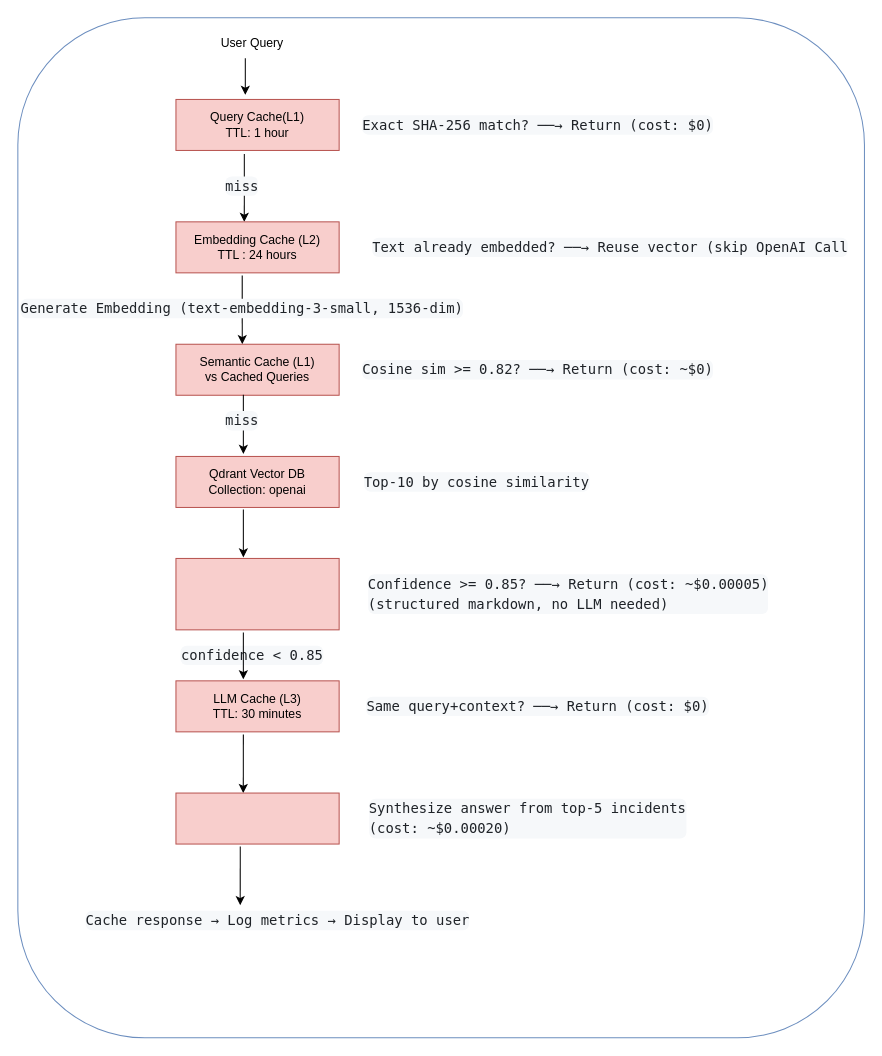
Image size: 882x1056. Some labels were removed from this diagram. Each missing label, with the centre of its shape:
Deterministic Layer Pattern + Clustering+ Confidence Score: the point at 257,593
gpt-4o-mini temperature : 0.0: the point at 257,818
